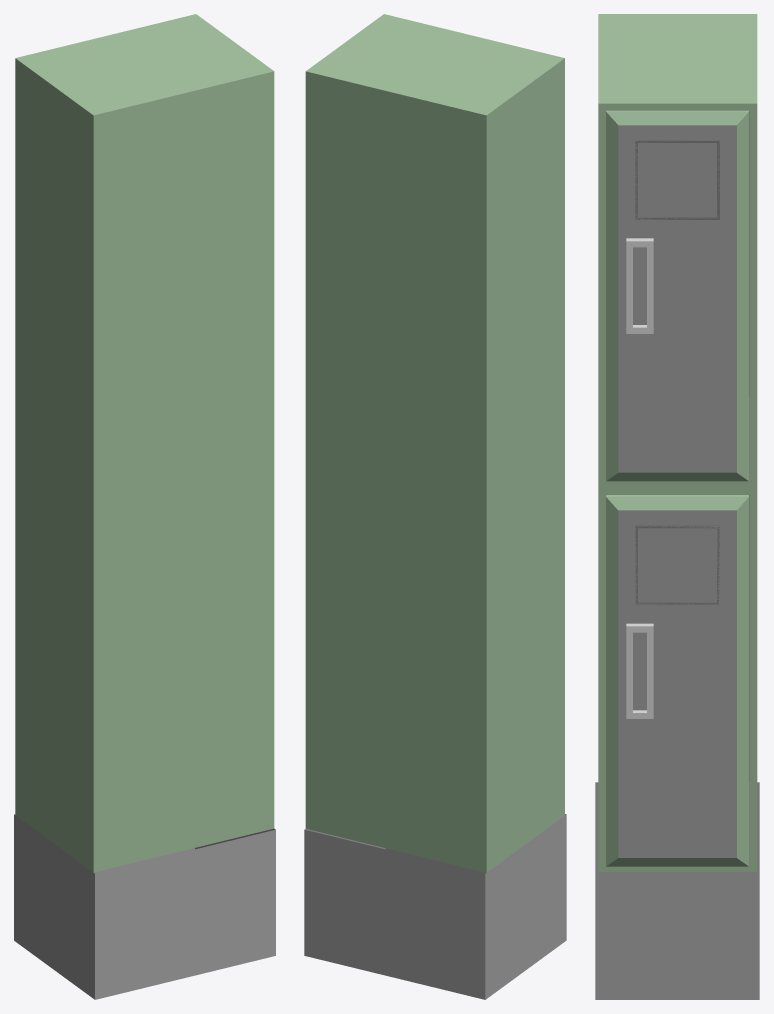
The model's file is Locker.fbx.
3 views of the same model, side by side, from view 1: azimuth 30°, elevation 25°; view 2: azimuth 150°, elevation 25°; view 3: azimuth 270°, elevation 25° (orthographic).
Visible parts, largest first — view 1: Locker_Box (×2); view 2: Locker_Box (×2); view 3: LockerDoor_01 (×2), Locker_Box (×2), LockerDoor_Handle (×2), LockerDoor_02 (×2).
Part boxes in pixels (left/top/right/bottom): Locker_Box (×2): left=14, top=14, right=275, bottom=999; Locker_Box (×2): left=304, top=14, right=566, bottom=999; LockerDoor_01 (×2): left=606, top=110, right=748, bottom=866; Locker_Box (×2): left=595, top=14, right=759, bottom=999; LockerDoor_Handle (×2): left=626, top=238, right=653, bottom=718; LockerDoor_02 (×2): left=635, top=140, right=719, bottom=605.
Bounding box in the file's own units: 48.93 × 213 × 35.5.
